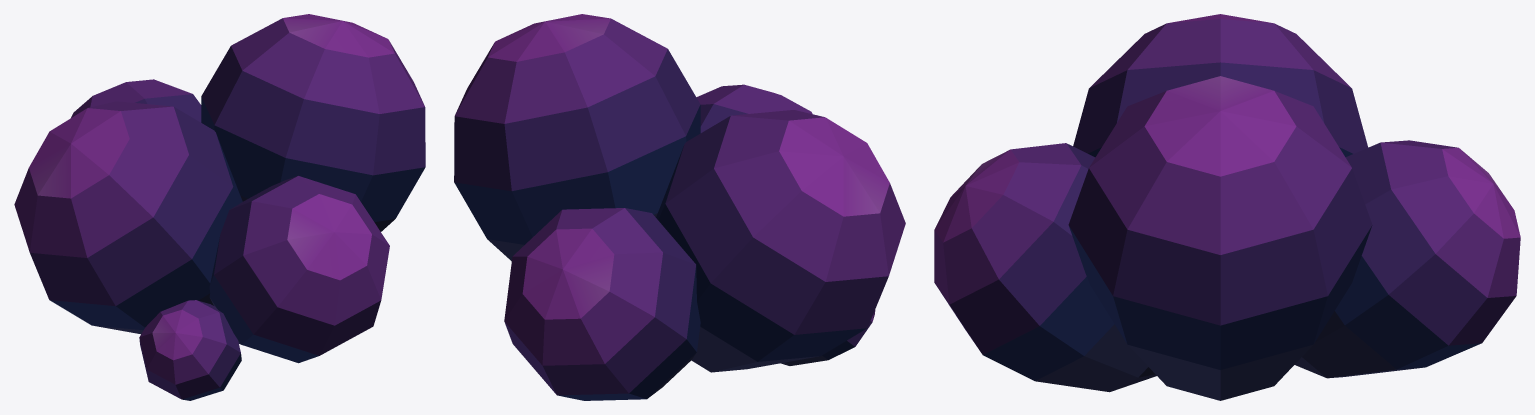
The model's file is coral_spheres_purple_1.fbx.
3 renders of one model, left to right at view 1: azimuth 30°, elevation 25°; view 2: azimuth 150°, elevation 25°; view 3: azimuth 270°, elevation 25°, orthographic. The views are drawn at different scales.
Visible parts, largest first — view 1: coral_spheres_purple_1; view 2: coral_spheres_purple_1; view 3: coral_spheres_purple_1.
Boxes of the visible parts, x1,y1,x2,y2 form: coral_spheres_purple_1: (14,14,425,400); coral_spheres_purple_1: (454,14,905,400); coral_spheres_purple_1: (934,14,1520,400).
Size of the model in its own units: 0.5048 by 0.3734 by 0.5238.
